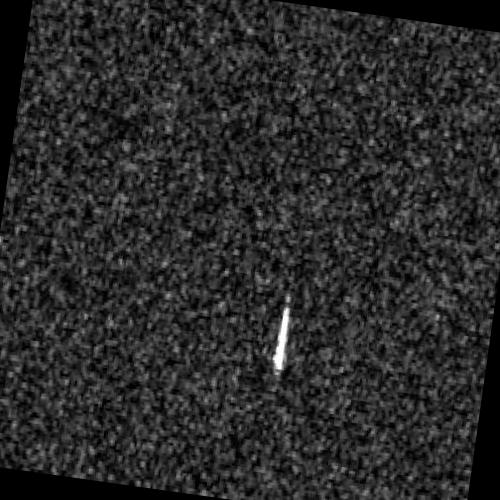ship: (272, 295, 291, 373)
